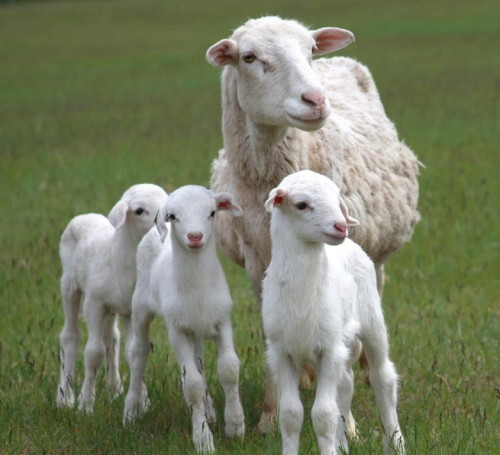sheep: (206, 10, 434, 337), (254, 175, 422, 455), (51, 177, 194, 428), (133, 180, 249, 455)
